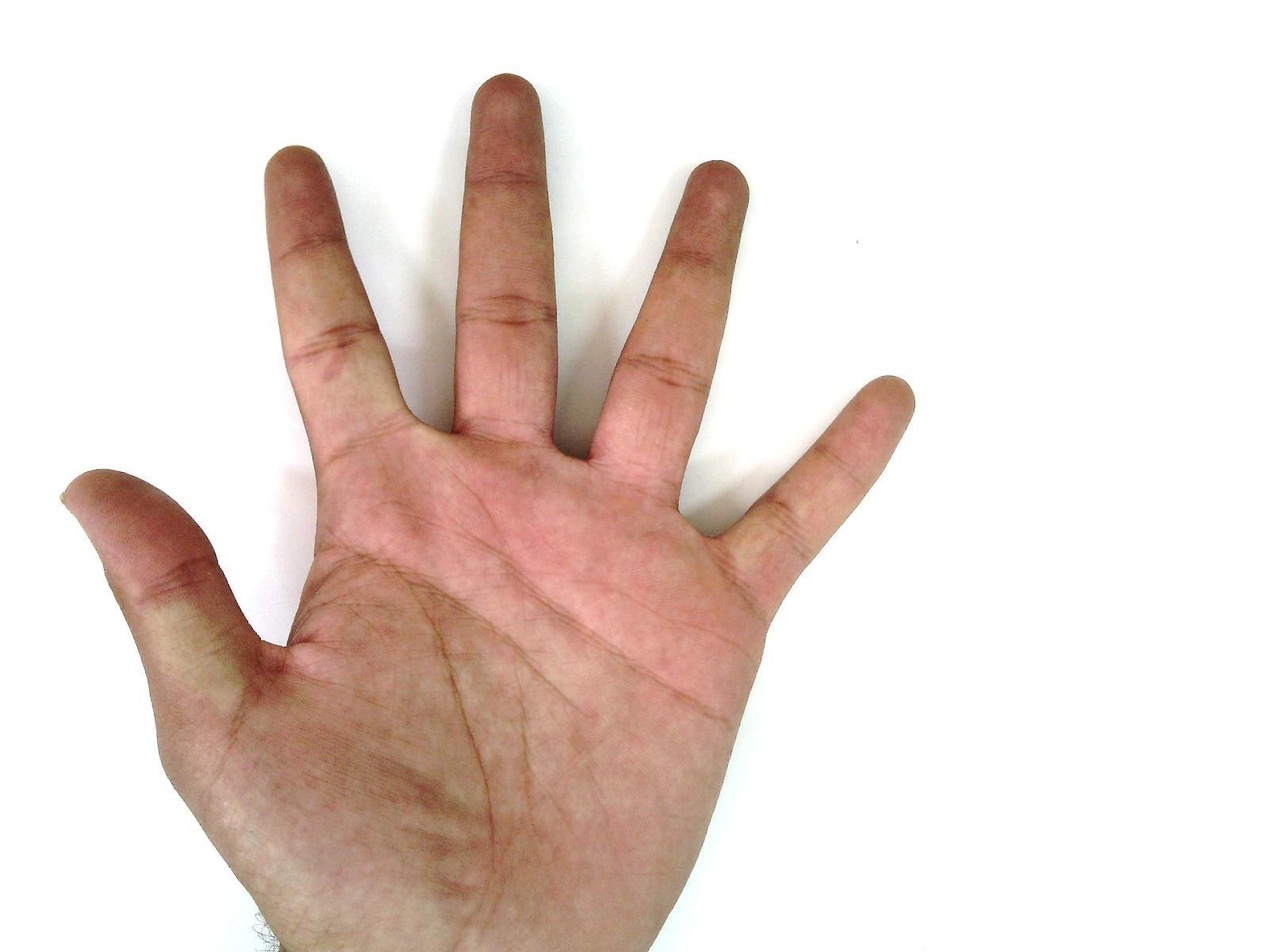open_palm: (59, 71, 919, 951)
